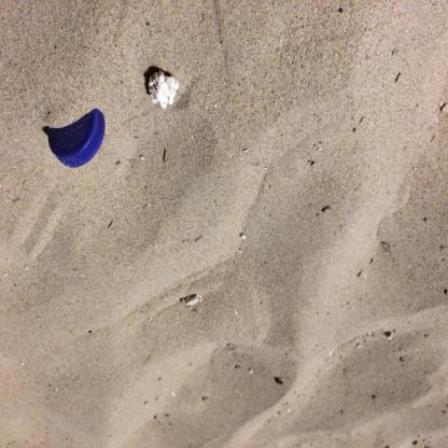Bottle cap: (49, 110, 106, 169)
Styrofoam piece: (150, 72, 180, 110)
